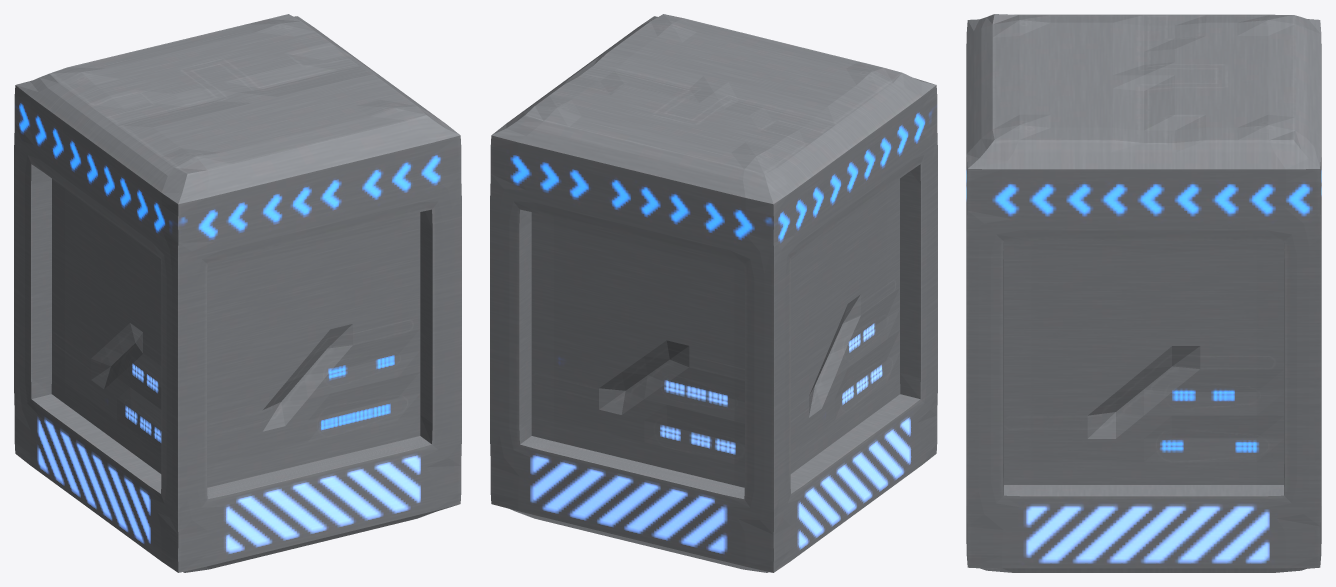
File: crate2lw.fbx
3 views of the same model, side by side, from view 1: azimuth 30°, elevation 25°; view 2: azimuth 150°, elevation 25°; view 3: azimuth 270°, elevation 25° (orthographic). The views are drawn at different scales.
Parts seen in each view (by area): view 1: Crate2; view 2: Crate2; view 3: Crate2.
Boxes of the visible parts, bbox=[...] form: Crate2: bbox=[14, 14, 461, 572]; Crate2: bbox=[490, 14, 937, 572]; Crate2: bbox=[966, 14, 1321, 572].
Size of the model in its own units: 25.88 by 35.15 by 25.88.
1 material, 1 textured.
